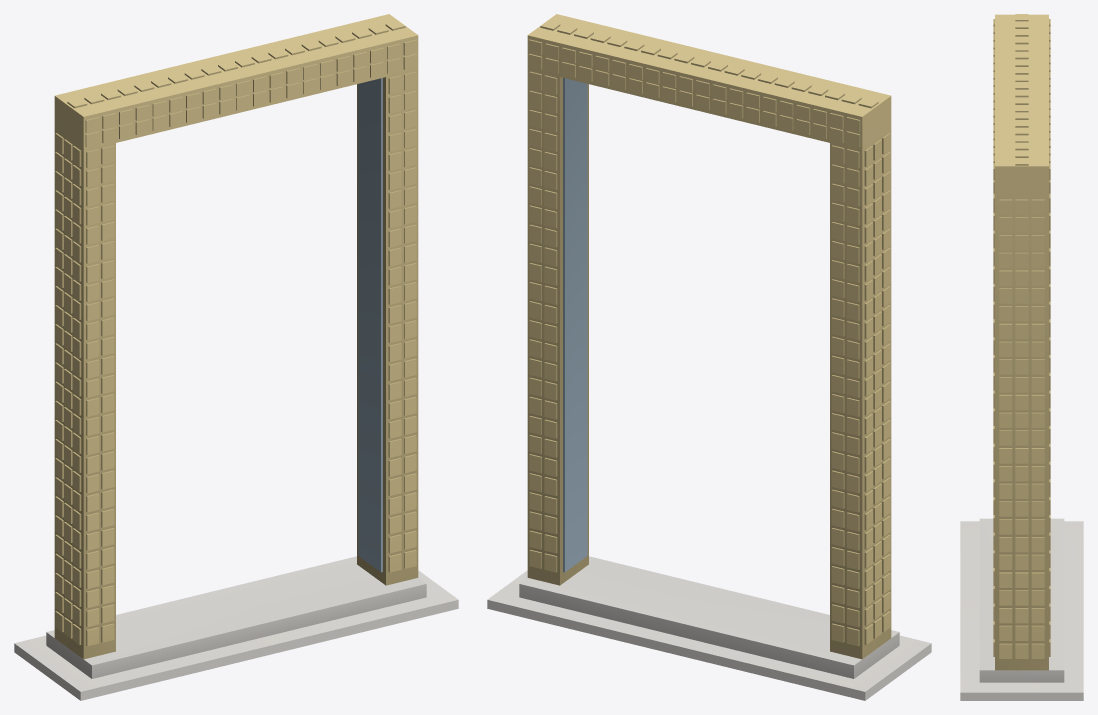
The model's file is dubai_frame.glb.
3 views of the same model, side by side, from view 1: azimuth 30°, elevation 25°; view 2: azimuth 150°, elevation 25°; view 3: azimuth 270°, elevation 25° (orthographic). The views are drawn at different scales.
Visible parts, largest first — view 1: dubai_frame; view 2: dubai_frame; view 3: dubai_frame.
Boxes of the visible parts, x1,y1,x2,y2 form: dubai_frame: (14,14,458,700); dubai_frame: (487,14,931,700); dubai_frame: (960,14,1083,700).
Size of the model in its own units: 105 by 150 by 32.
